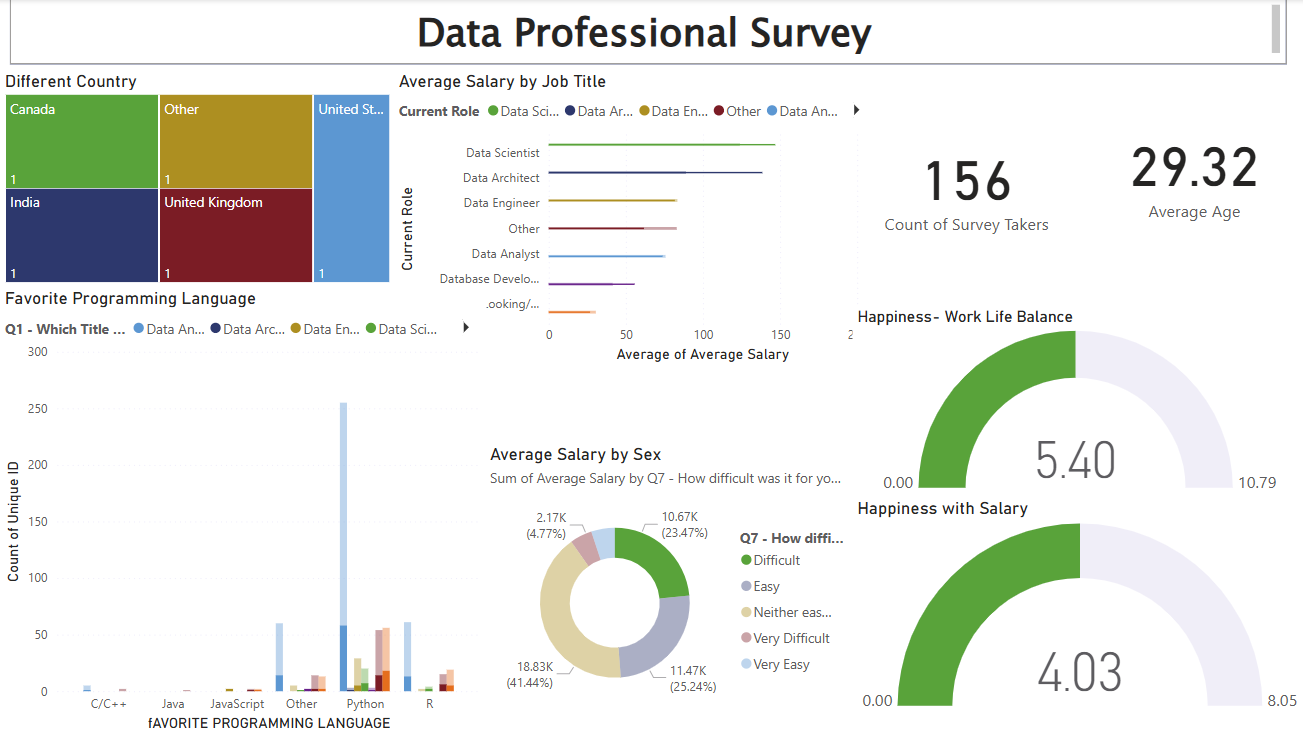

What the dashboard file says about the page in this screenshot:
{"tool":"powerbi","page":{"name":"Page 1","canvas":[1280,720],"ordinal":0},"visuals":[{"type":"textbox","box":[10,0,1248.7,64],"z":0},{"type":"card","fields":{"Values":["Count(Data Professional Survey.Unique ID)"]},"box":[834.2,108.3,223.6,145.5],"z":1000},{"type":"card","fields":{"Values":["Avg(Data Professional Survey.Q10 - Current Age)"]},"box":[1057.8,69.2,221.9,197],"z":1001},{"type":"clusteredBarChart","title":"Average Salary by Job Title","fields":{"Category":["Data Professional Survey.Q1 - Which Title Best Fits your Current Role?.1"],"Y":["Avg(Data Professional Survey.Average Salary)"],"Series":["Data Professional Survey.Q1 - Which Title Best Fits your Current Role?.1"]},"box":[385.1,69.2,468.6,291.1],"z":1003},{"type":"clusteredColumnChart","title":"Favorite Programming Language","fields":{"Y":["CountNonNull(Data Professional Survey.Unique ID)"],"Category":["Data Professional Survey.Q5 - Favorite Programming Language.1"],"Series":["Data Professional Survey.Q1 - Which Title Best Fits your Current Role?.1"]},"box":[0,282.2,475.7,438.4],"z":1004},{"type":"treemap","title":"Different Country","fields":{"Group":["Data Professional Survey.Q11 - Which Country do you live in?.1"],"Values":["Count(Data Professional Survey.Q11 - Which Country do you live in?.1)"]},"box":[0,69.2,386.9,213],"z":1005},{"type":"gauge","title":"Happiness- Work Life Balance ","fields":{"Y":["Avg(Data Professional Survey.Q6 - How Happy are you in your Current Position with the following? (Work/Life Balance))"]},"box":[834.2,301.7,445.5,186.4],"z":1006},{"type":"gauge","title":"Happiness with Salary","fields":{"Y":["Avg(Data Professional Survey.Q6 - How Happy are you in your Current Position with the following? (Salary))"]},"box":[834.2,488.1,445.5,214.8],"z":1007},{"type":"donutChart","title":" Average Salary by Sex","fields":{"Y":["Sum(Data Professional Survey.Average Salary)"],"Series":["Data Professional Survey.Q7 - How difficult was it for you to break into Data?"]},"box":[473.9,434.8,360.3,268],"z":1008}]}

Visuals, with their boxes in screenshot pixels (x1, y1, x2, y2), scaled from the page's 1280x720 canvas onto the 1303x731 screenshot:
textbox: BBox(10, 0, 1281, 65)
card - Count(Data Professional Survey.Unique ID): BBox(849, 110, 1077, 258)
card - Avg(Data Professional Survey.Q10 - Current Age): BBox(1077, 70, 1302, 270)
"Average Salary by Job Title" clusteredBarChart: BBox(392, 70, 869, 366)
"Favorite Programming Language" clusteredColumnChart: BBox(0, 287, 484, 730)
"Different Country" treemap: BBox(0, 70, 394, 287)
"Happiness- Work Life Balance " gauge: BBox(849, 306, 1302, 496)
"Happiness with Salary" gauge: BBox(849, 496, 1302, 714)
" Average Salary by Sex" donutChart: BBox(482, 441, 849, 714)
